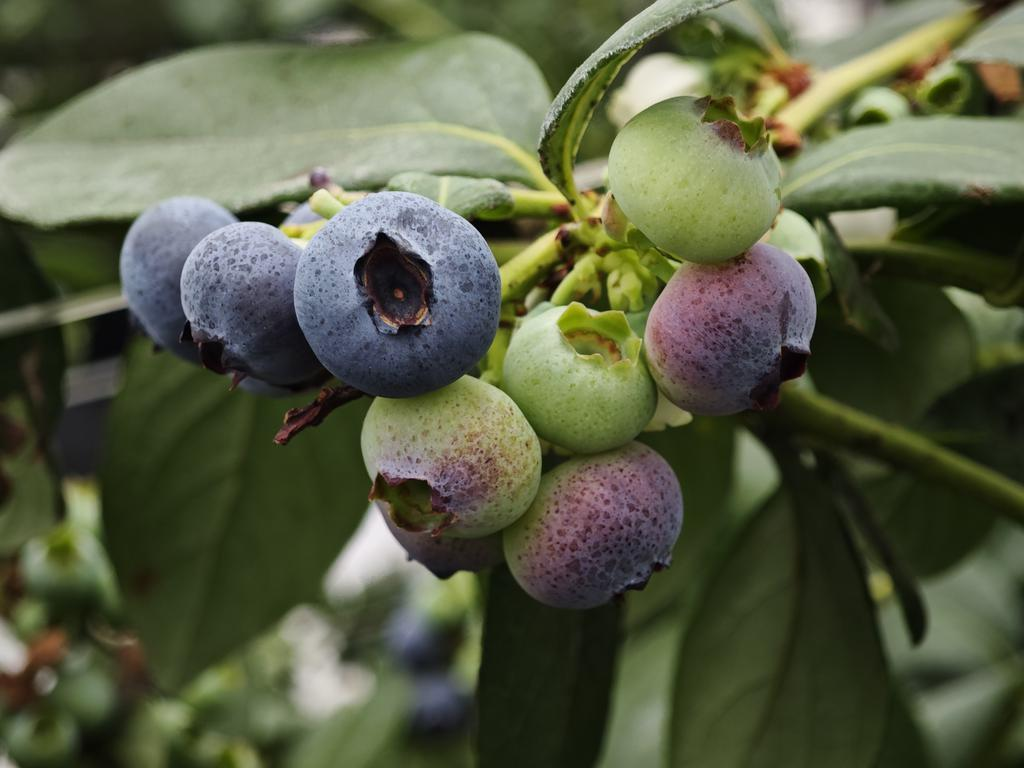RipeBlueBerry: (289, 188, 504, 399), (179, 218, 319, 394)
Semi-RipeBlueBerry: (642, 243, 822, 422), (506, 442, 685, 615)
UnripeBlueBerry: (355, 375, 544, 549), (605, 93, 786, 269), (507, 297, 655, 453)
